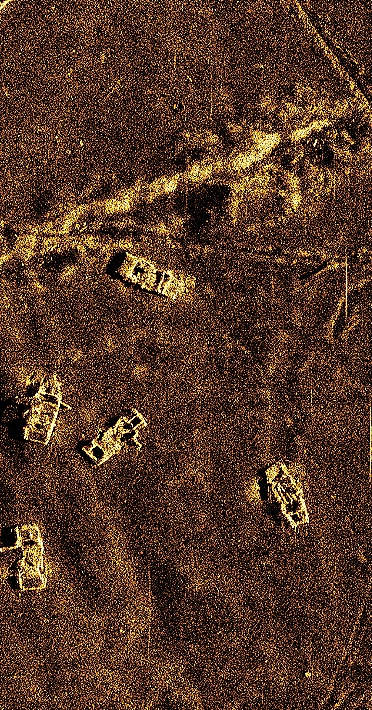ship: (113, 251, 197, 303), (81, 406, 149, 469), (262, 457, 313, 530), (22, 369, 70, 446), (1, 521, 48, 591)
